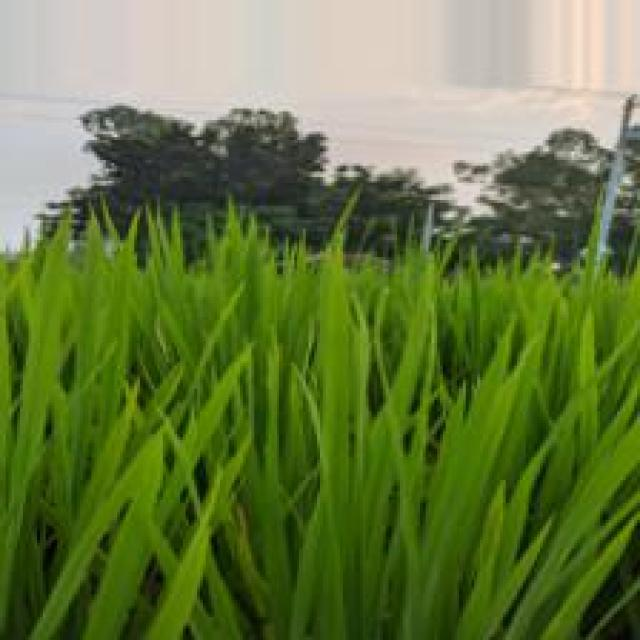HealthyLeaf: (435, 471, 482, 557), (22, 313, 62, 388), (321, 328, 348, 416)
